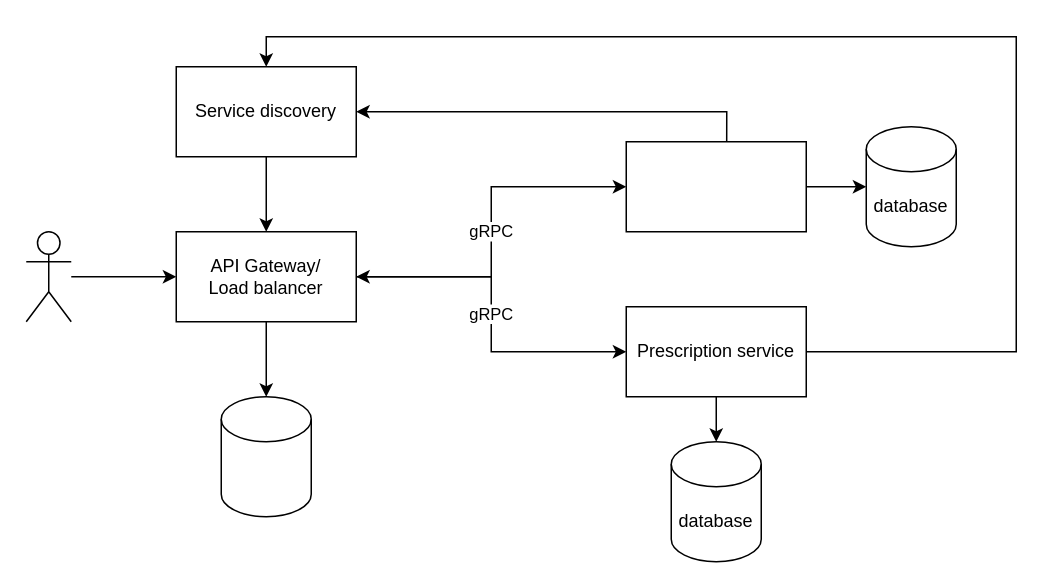
Image size: 1055x588. Some labels were removed from this diagram. Each missing label, with the centre of its shape:
"cahche" goes at [265,456].
"Client" goes at [48,276].
"Patient records service" goes at [715,186].
